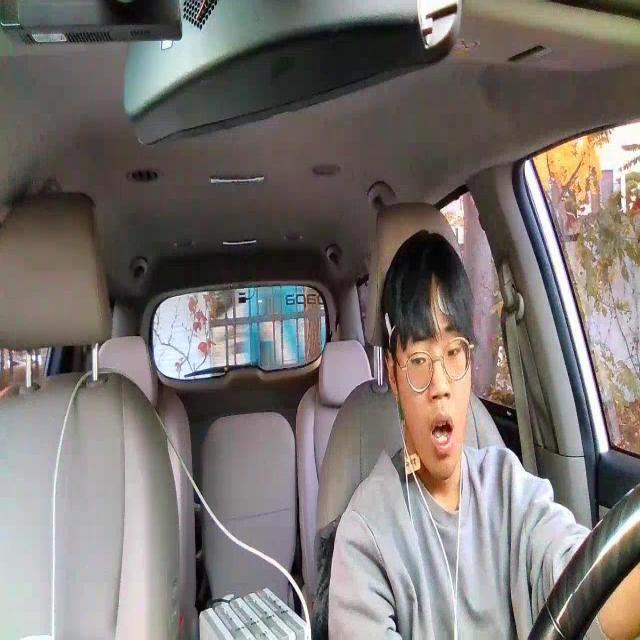Inattentive: (382, 226, 472, 480)
Yawning: (429, 415, 455, 456)
